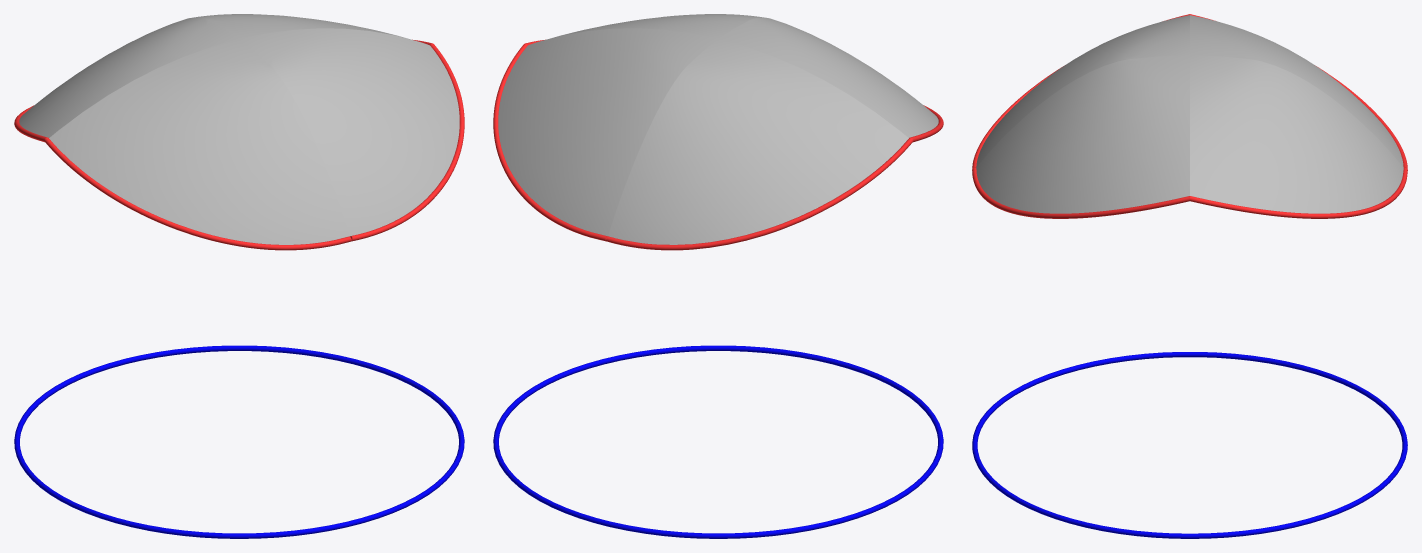
The model's file is step1.gltf.
3 renders of one model, left to right at view 1: azimuth 30°, elevation 25°; view 2: azimuth 150°, elevation 25°; view 3: azimuth 270°, elevation 25°, orthographic. The views are drawn at different scales.
Visible parts, largest first — view 1: Step1.SLDPRT; view 2: Step1.SLDPRT; view 3: Step1.SLDPRT.
Boxes of the visible parts, x1,y1,x2,y2 form: Step1.SLDPRT: (14,14,464,538); Step1.SLDPRT: (493,14,943,538); Step1.SLDPRT: (972,14,1407,538).
Size of the model in its own units: 0.0405 by 0.0402 by 0.0405.
